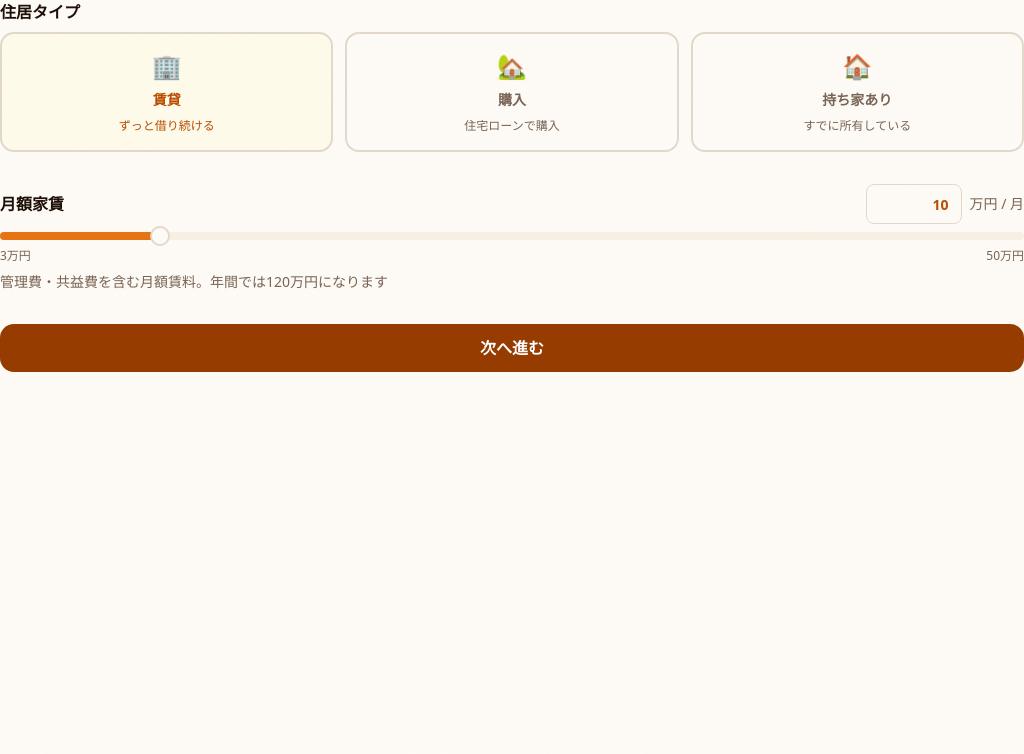
Scenario: HousingStep interactions › choosing buy shows the loan fields
Click the radio button "購入" at (512, 92), box [345,32,679,152]
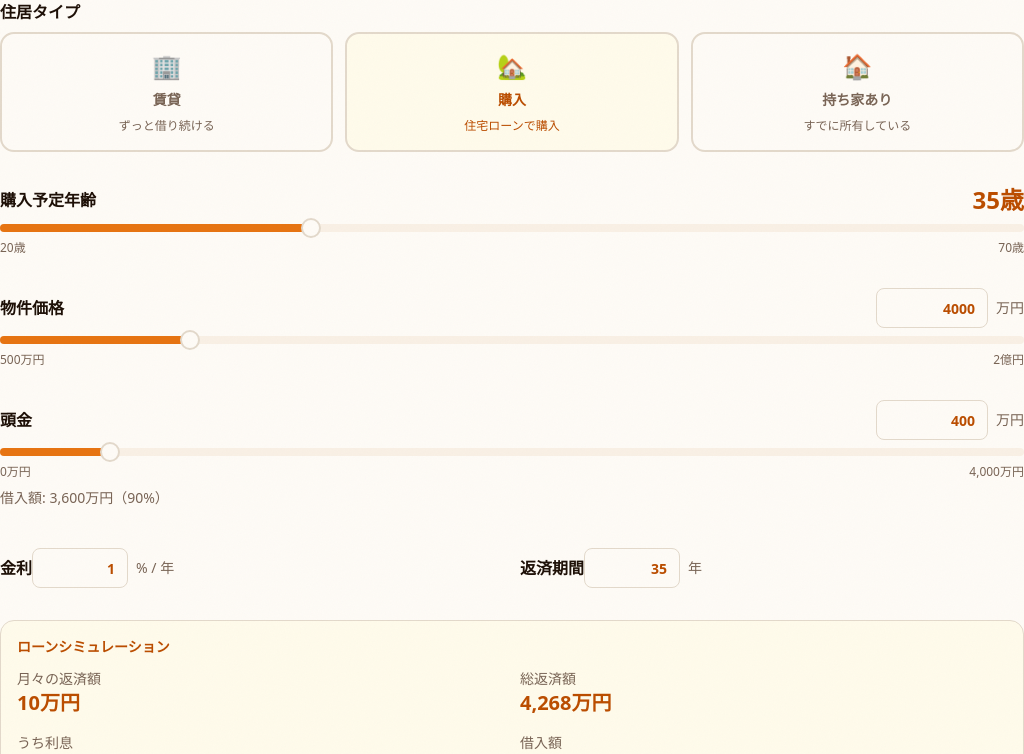
Result: the text "購入予定年齢" is shown at [0,188,96,212]
